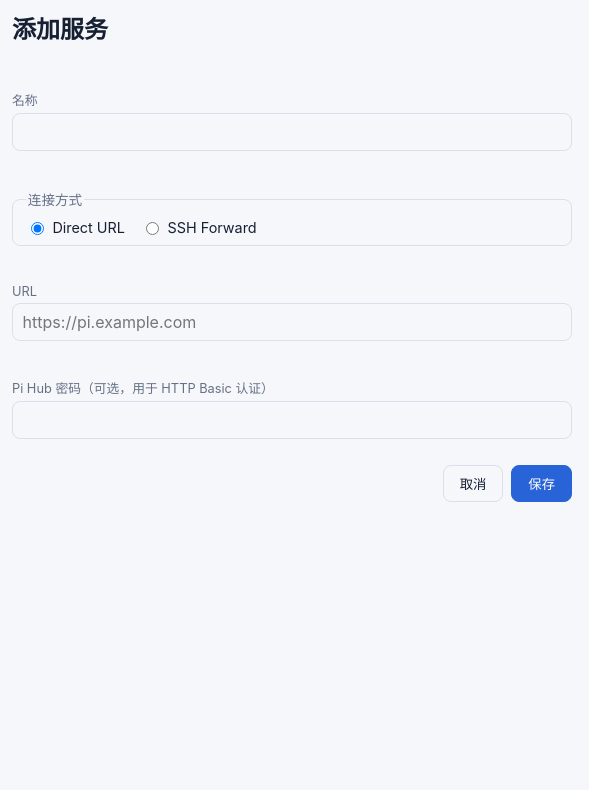
Scenario: ServiceFormPage › reveals SSH fields when switching to SSH Forward
Click the radio button labelled "SSH Forward": (152, 229) [146,222,159,235]
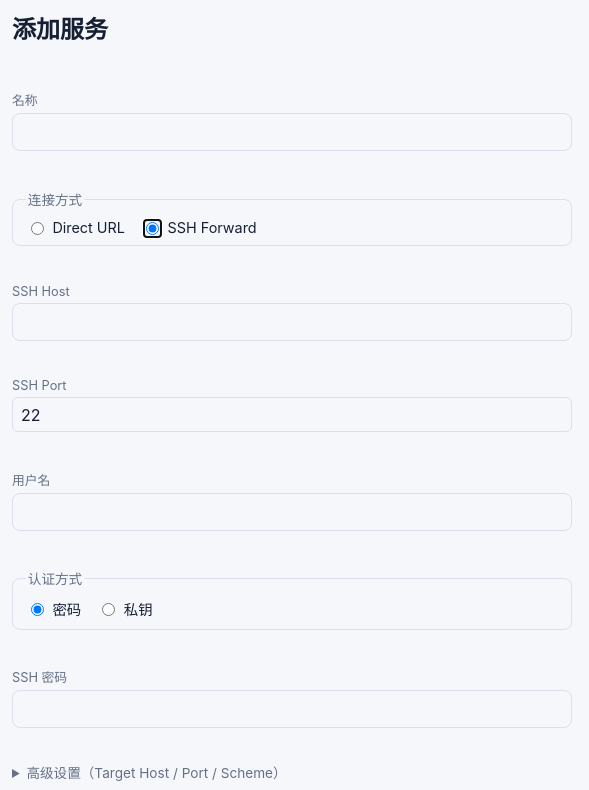
Expected: the text "SSH Host" is shown, [12,284,70,299]
Expected: the text "用户名" is shown, [12,473,50,488]
